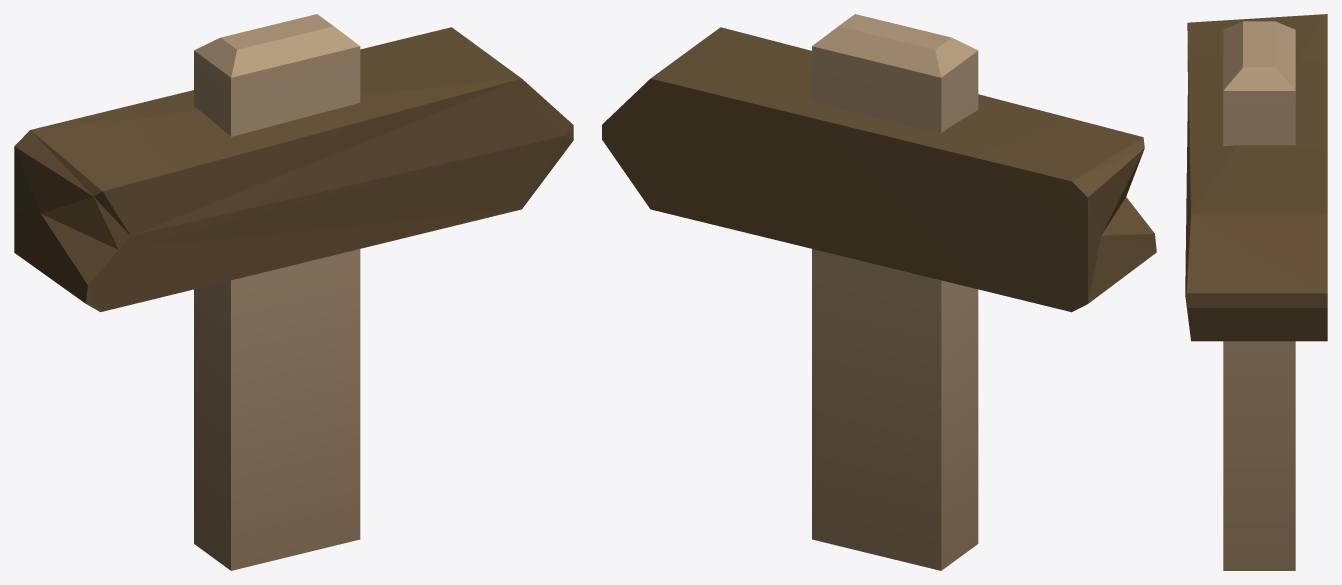
File: Signpost_short.gltf
3 renders of one model, left to right at view 1: azimuth 30°, elevation 25°; view 2: azimuth 150°, elevation 25°; view 3: azimuth 270°, elevation 25°, orthographic. The views are drawn at different scales.
Parts seen in each view (by area): view 1: Signpost_short; view 2: Signpost_short; view 3: Signpost_short.
Part boxes in pixels (box(x1,y1,x2,y2)): Signpost_short: box(14, 14, 573, 570); Signpost_short: box(602, 14, 1156, 570); Signpost_short: box(1185, 14, 1327, 570).
Bounding box in the file's own units: 1 × 1 × 0.2604.
Materials: 1 (1 with a texture image).
